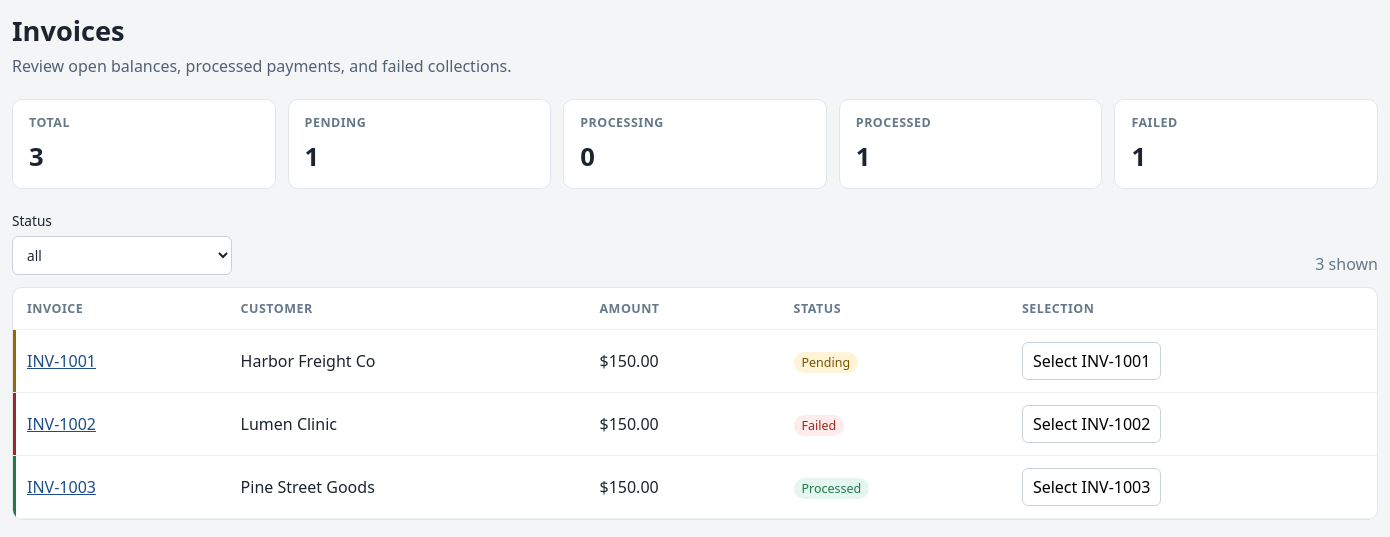
Scenario: invoice dashboard › filters the table by status
The image size is (1390, 537).
Expected: the link "INV-1001" is shown, 27,350 -> 96,372
Select "failed" in the dropdown labelled "Status": (122, 256) 12,236 -> 232,275
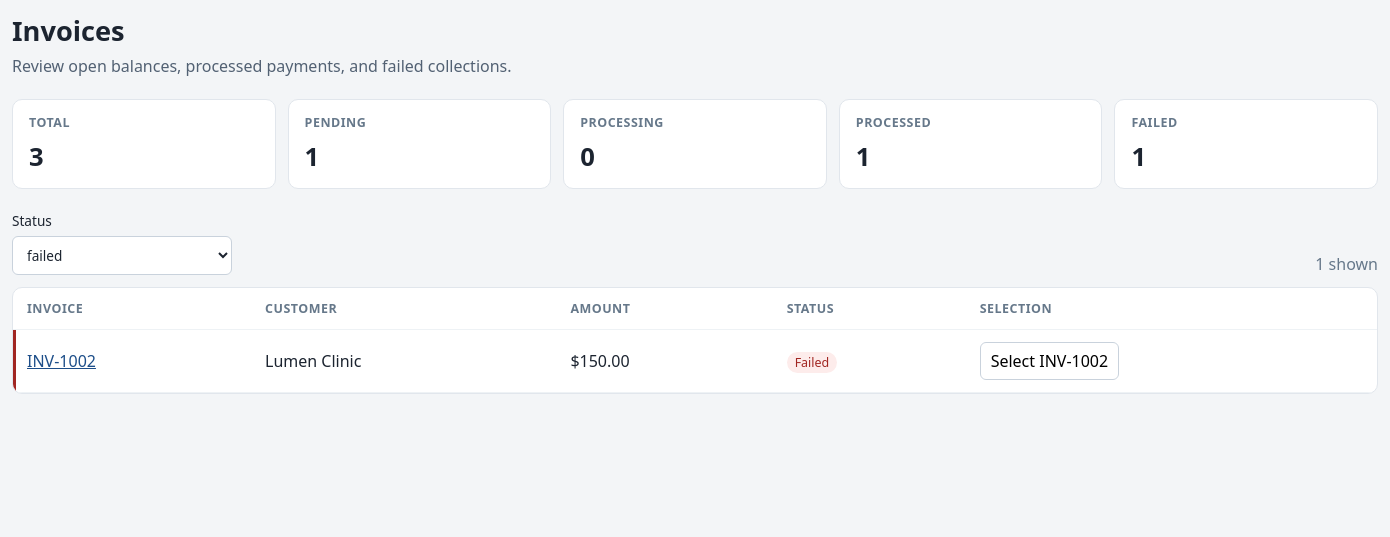
Expected: the link "INV-1002" is shown, 27,350 -> 96,372
Now the link "INV-1001" is gone
